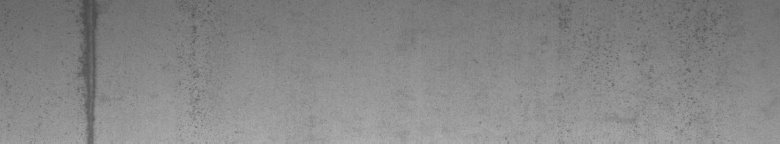hd: (67, 4, 103, 136)
